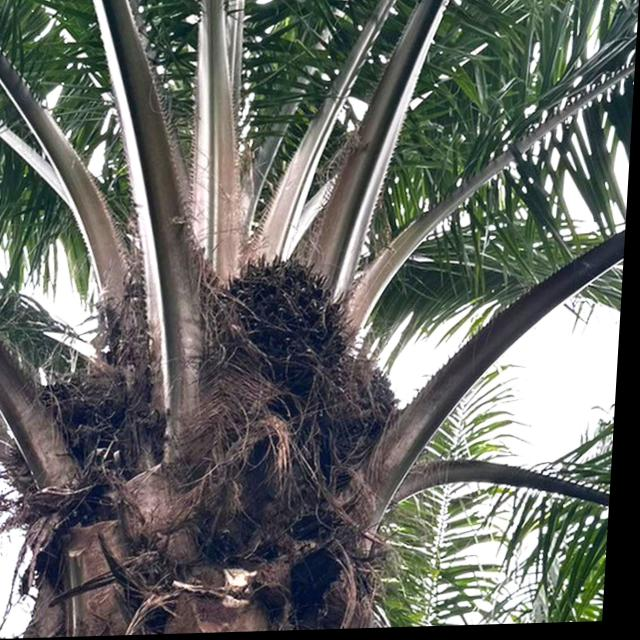almost: (206, 246, 366, 418), (303, 361, 408, 475)
